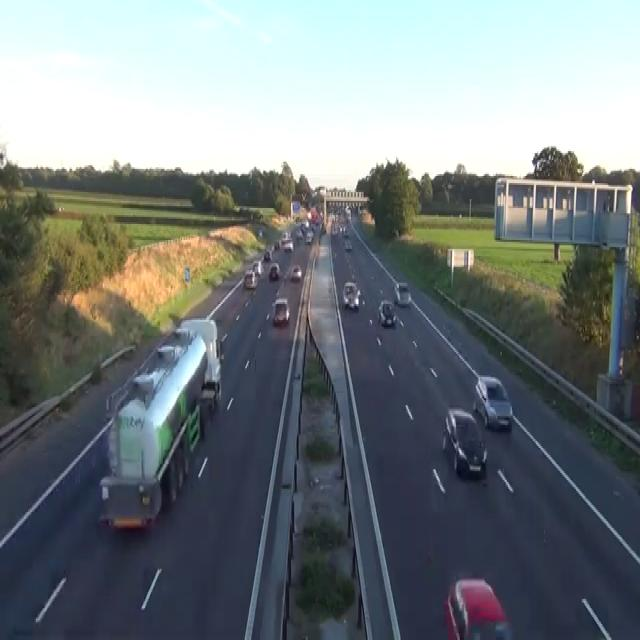Car: (444, 578, 512, 638), (442, 407, 487, 478), (473, 375, 513, 430), (271, 297, 290, 325), (378, 299, 396, 327), (342, 281, 360, 309), (394, 281, 411, 306), (243, 268, 257, 288), (90, 361, 102, 384), (268, 261, 279, 279), (252, 260, 264, 276), (290, 265, 301, 281), (280, 231, 291, 244), (0, 149, 7, 169), (339, 224, 349, 236), (300, 220, 309, 233), (304, 231, 313, 244), (344, 238, 352, 251), (284, 240, 293, 251), (263, 249, 271, 261), (295, 228, 303, 240), (331, 224, 338, 235), (244, 298, 251, 308), (320, 222, 326, 233), (273, 240, 280, 249), (343, 226, 348, 236), (258, 228, 262, 236), (271, 243, 275, 250)
Truck: (97, 318, 218, 532), (175, 316, 222, 406)
